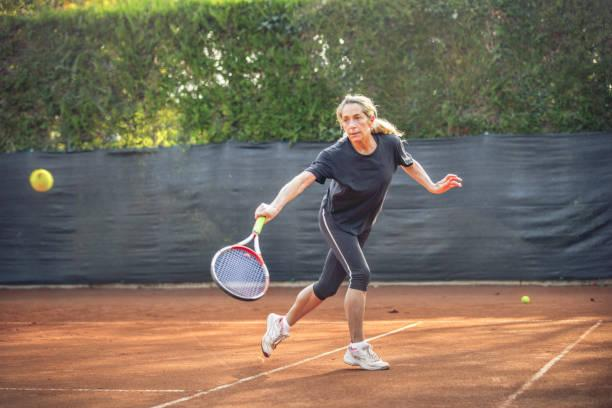ball_tennis: (30, 168, 54, 192), (521, 294, 530, 303)
